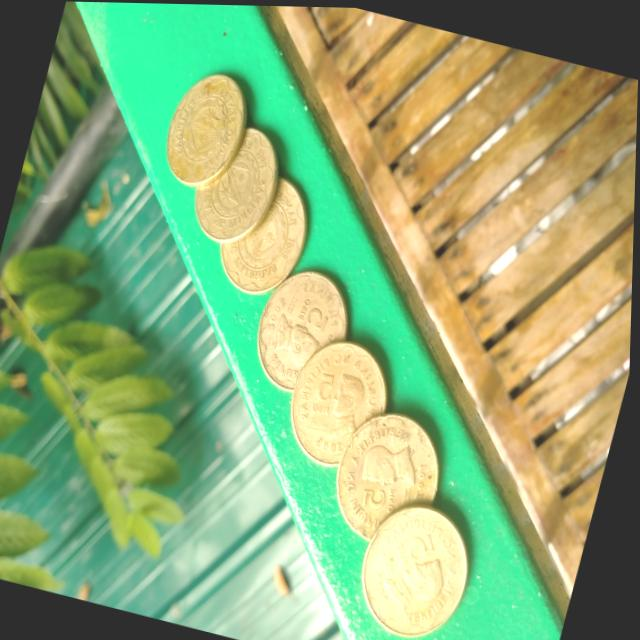5_Old_Back: (165, 73, 246, 176)
5_Old_Front: (342, 422, 436, 527), (262, 288, 340, 378)
